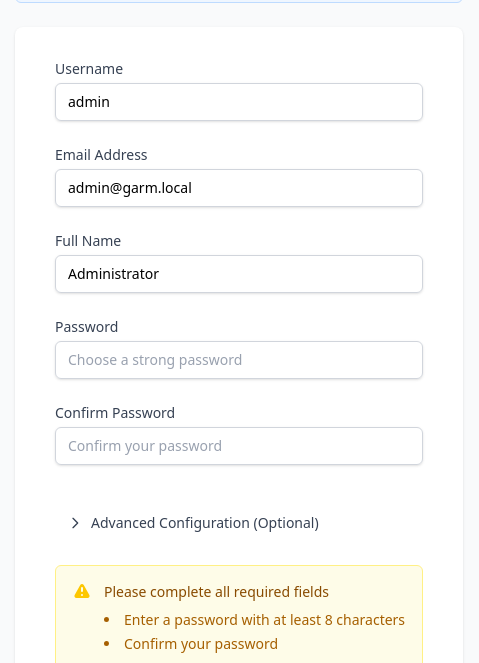
Test: Comprehensive Integration Tests for Init Page › Form Validation Integration › should integrate password validation workflow
The width and height of the screenshot is (479, 663).
(page scrolled)
# Test password length validation
Type "short" into the password field labelled "Password". click: [239, 360]
box: [55,341,423,379]
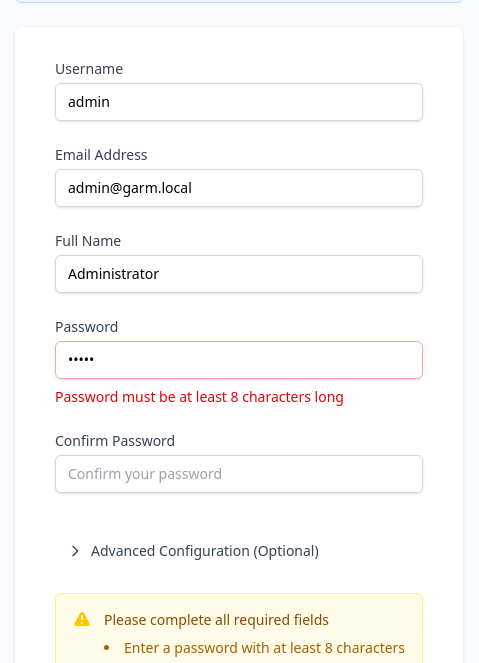
Check: the text "Password must be at least 8 characters long" is shown, box [55,387,344,406]
# Test password confirmation validation
Type "password123" into the password field labelled "Password". click: [239, 360]
box: [55,341,423,379]
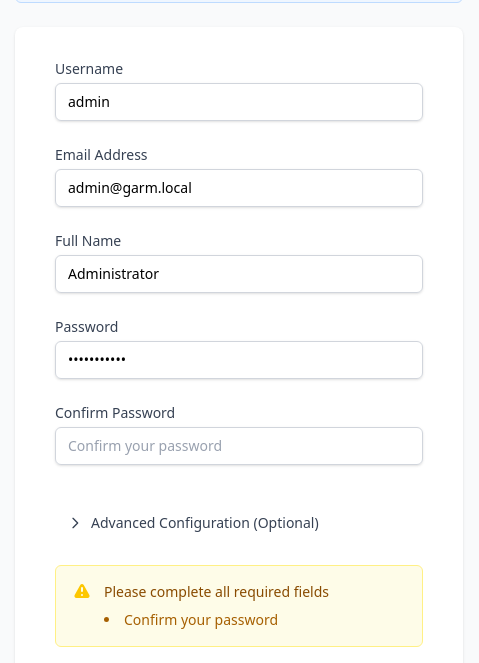
Type "different123" into the password field labelled "Confirm Password". click: [239, 446]
box: [55,427,423,465]
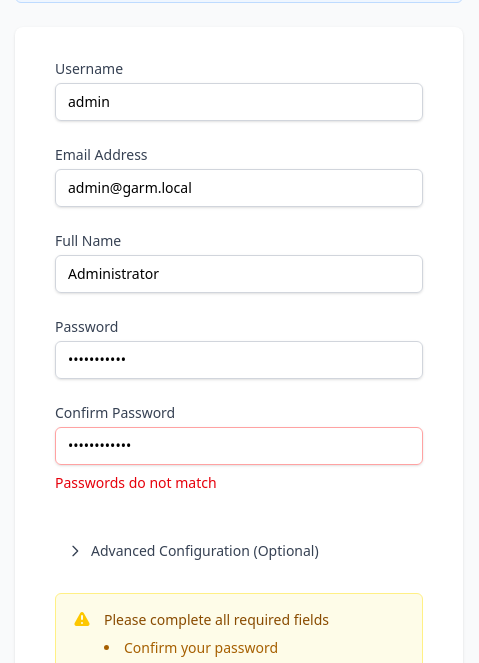
Check: the text "Passwords do not match" is shown, box [55,473,217,492]
